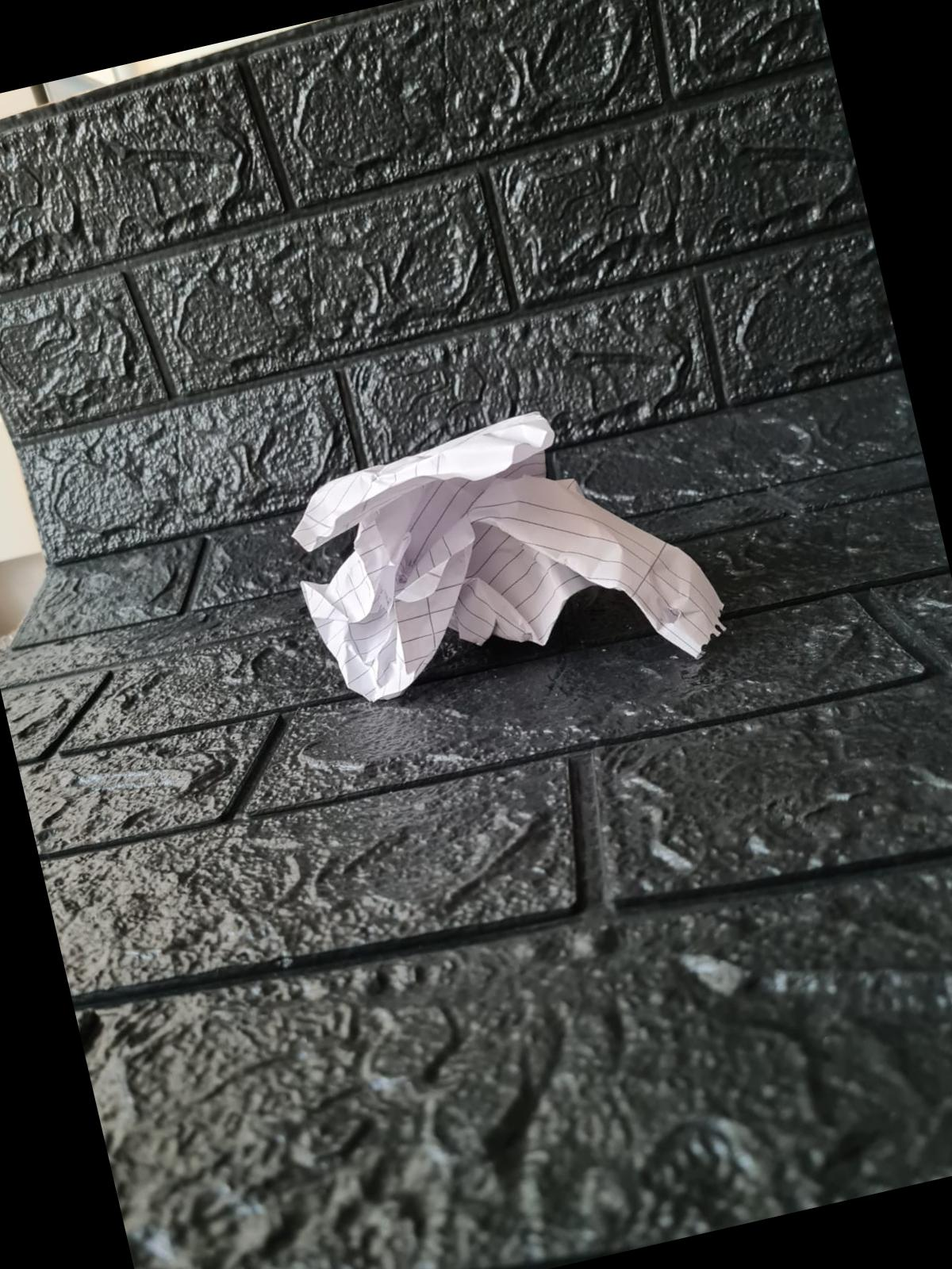Kertas: (274, 381, 738, 759), (292, 413, 723, 700)
